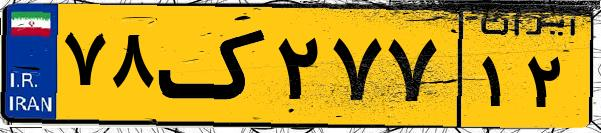1: (475, 38, 525, 113)
2: (270, 28, 330, 110), (525, 38, 570, 115)
7: (385, 28, 445, 110), (330, 28, 385, 110), (57, 26, 110, 100)
8: (110, 28, 158, 98)
ک: (158, 12, 270, 120)
